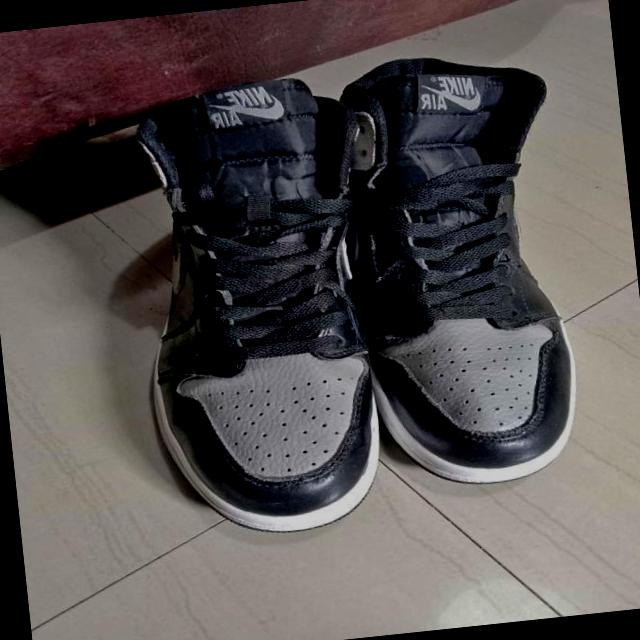nike_fake_jordan: (107, 72, 396, 547), (332, 42, 590, 496)
